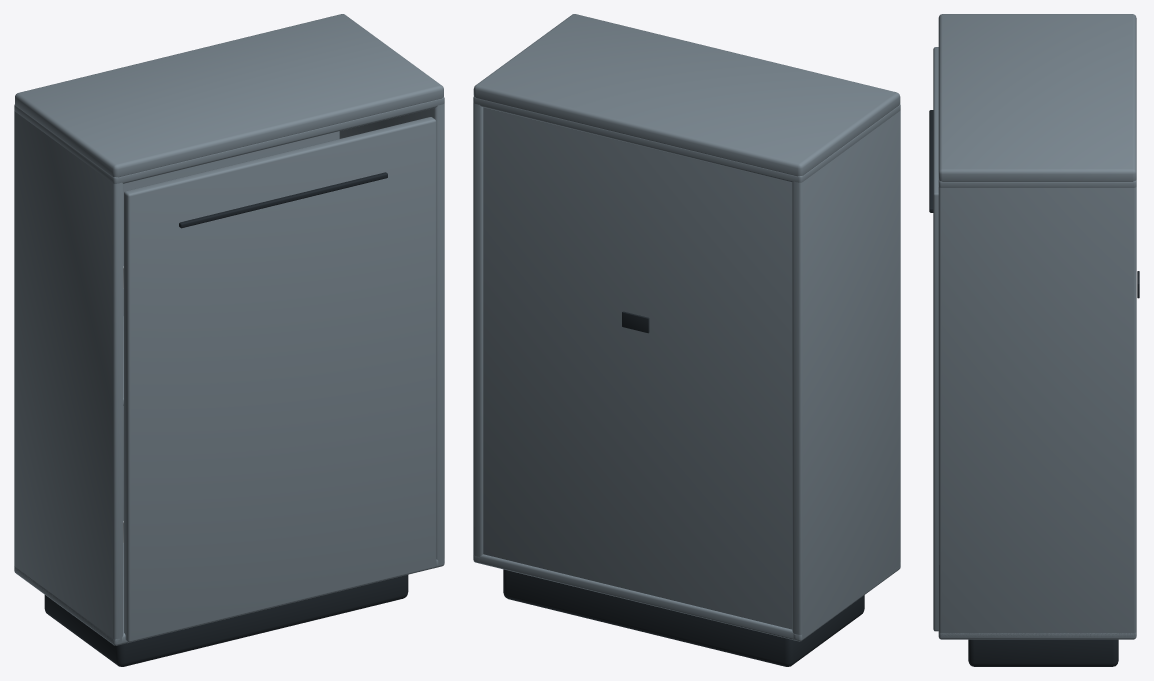
File: cabinet.glb
3 views of the same model, side by side, from view 1: azimuth 30°, elevation 25°; view 2: azimuth 150°, elevation 25°; view 3: azimuth 270°, elevation 25° (orthographic). The views are drawn at different scales.
Parts seen in each view (by area): view 1: cabinet; view 2: cabinet; view 3: cabinet.
Boxes of the visible parts, x1,y1,x2,y2 form: cabinet: [14, 14, 444, 666]; cabinet: [473, 14, 900, 666]; cabinet: [929, 14, 1139, 666].
Bounding box in the file's own units: 0.8 × 1.2 × 0.45.
